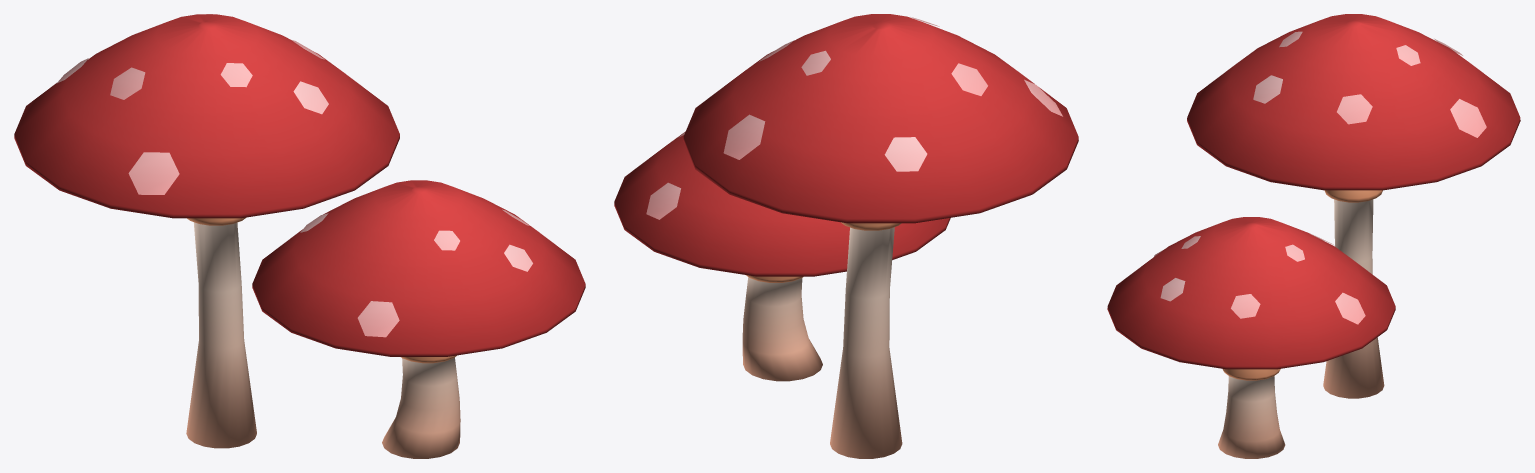
Rendered from Mushroom_Double_01.fbx.
The picture shows the model from 3 angles, left to right: view 1: azimuth 30°, elevation 25°; view 2: azimuth 150°, elevation 25°; view 3: azimuth 270°, elevation 25°; orthographic projection. The views are drawn at different scales.
Parts seen in each view (by area): view 1: Mushroom_Double_01; view 2: Mushroom_Double_01; view 3: Mushroom_Double_01.
Part boxes in pixels (x1,y1,x2,y2): Mushroom_Double_01: (14, 14, 585, 458); Mushroom_Double_01: (614, 14, 1078, 458); Mushroom_Double_01: (1107, 14, 1520, 458).
Bounding box in the file's own units: 54.2 × 46.38 × 48.82.
